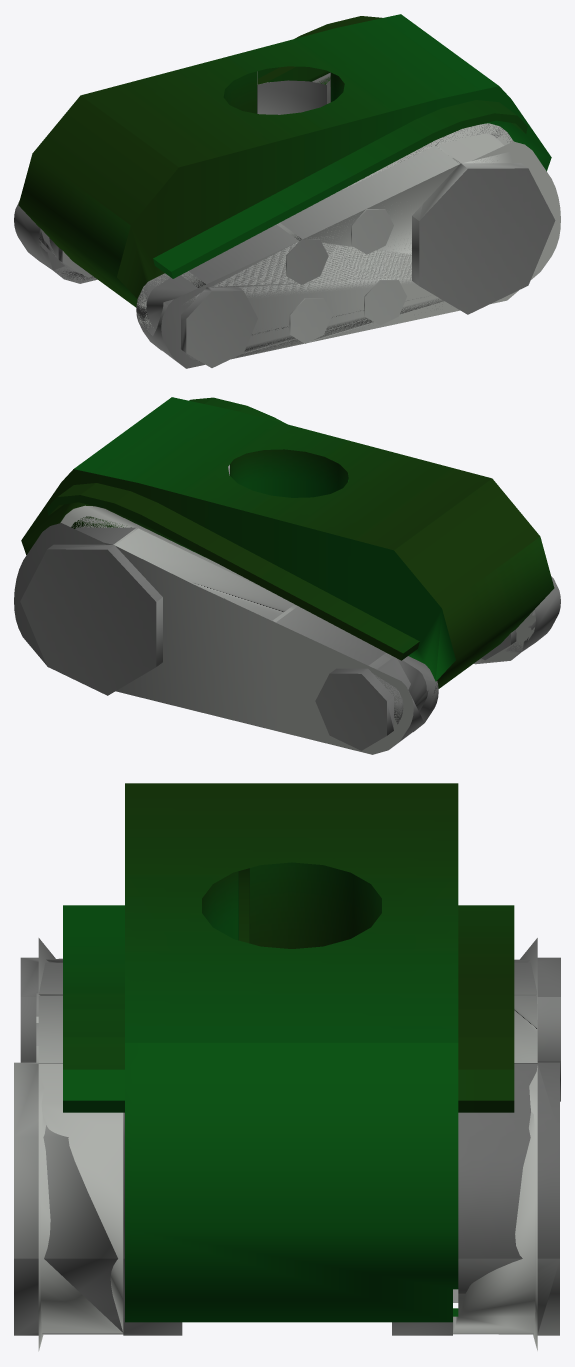
File: mrtank.obj
The picture shows the model from 3 angles, top to bottom: view 1: azimuth 30°, elevation 25°; view 2: azimuth 150°, elevation 25°; view 3: azimuth 270°, elevation 25°; orthographic projection. The views are drawn at different scales.
Parts seen in each view (by area): view 1: Box001; view 2: Box001; view 3: Box001.
Boxes of the visible parts, <box> form: Box001: <box>14,14,560,368</box>; Box001: <box>14,397,560,754</box>; Box001: <box>14,783,560,1351</box>.
Size of the model in its own units: 48.12 by 20.67 by 30.93.
